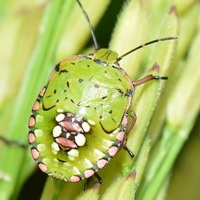insect: (30, 80, 166, 199), (110, 0, 177, 53), (120, 40, 176, 80)
